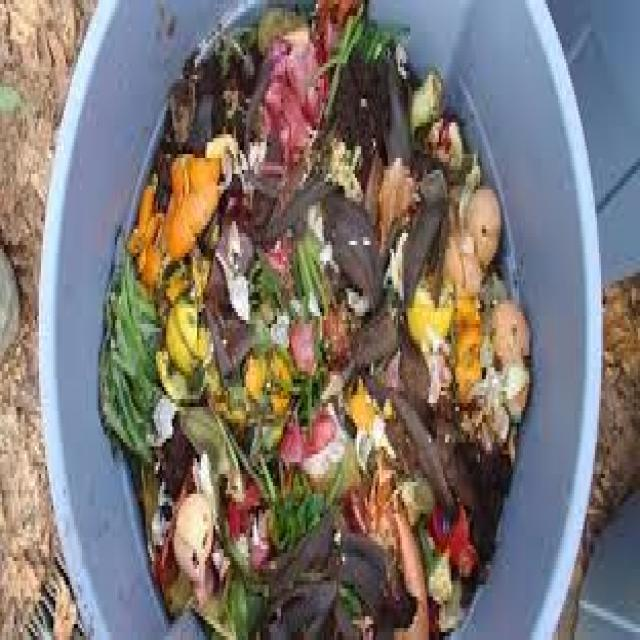food_waste: (173, 143, 467, 621)
